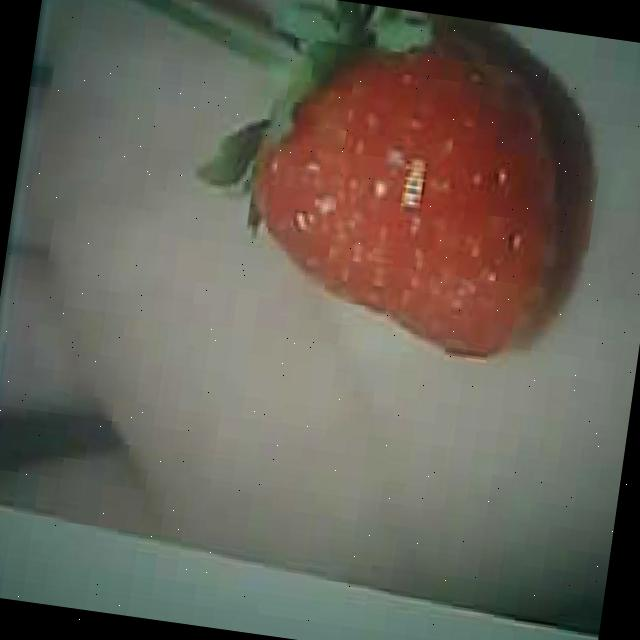strawberry: (232, 12, 577, 367)
